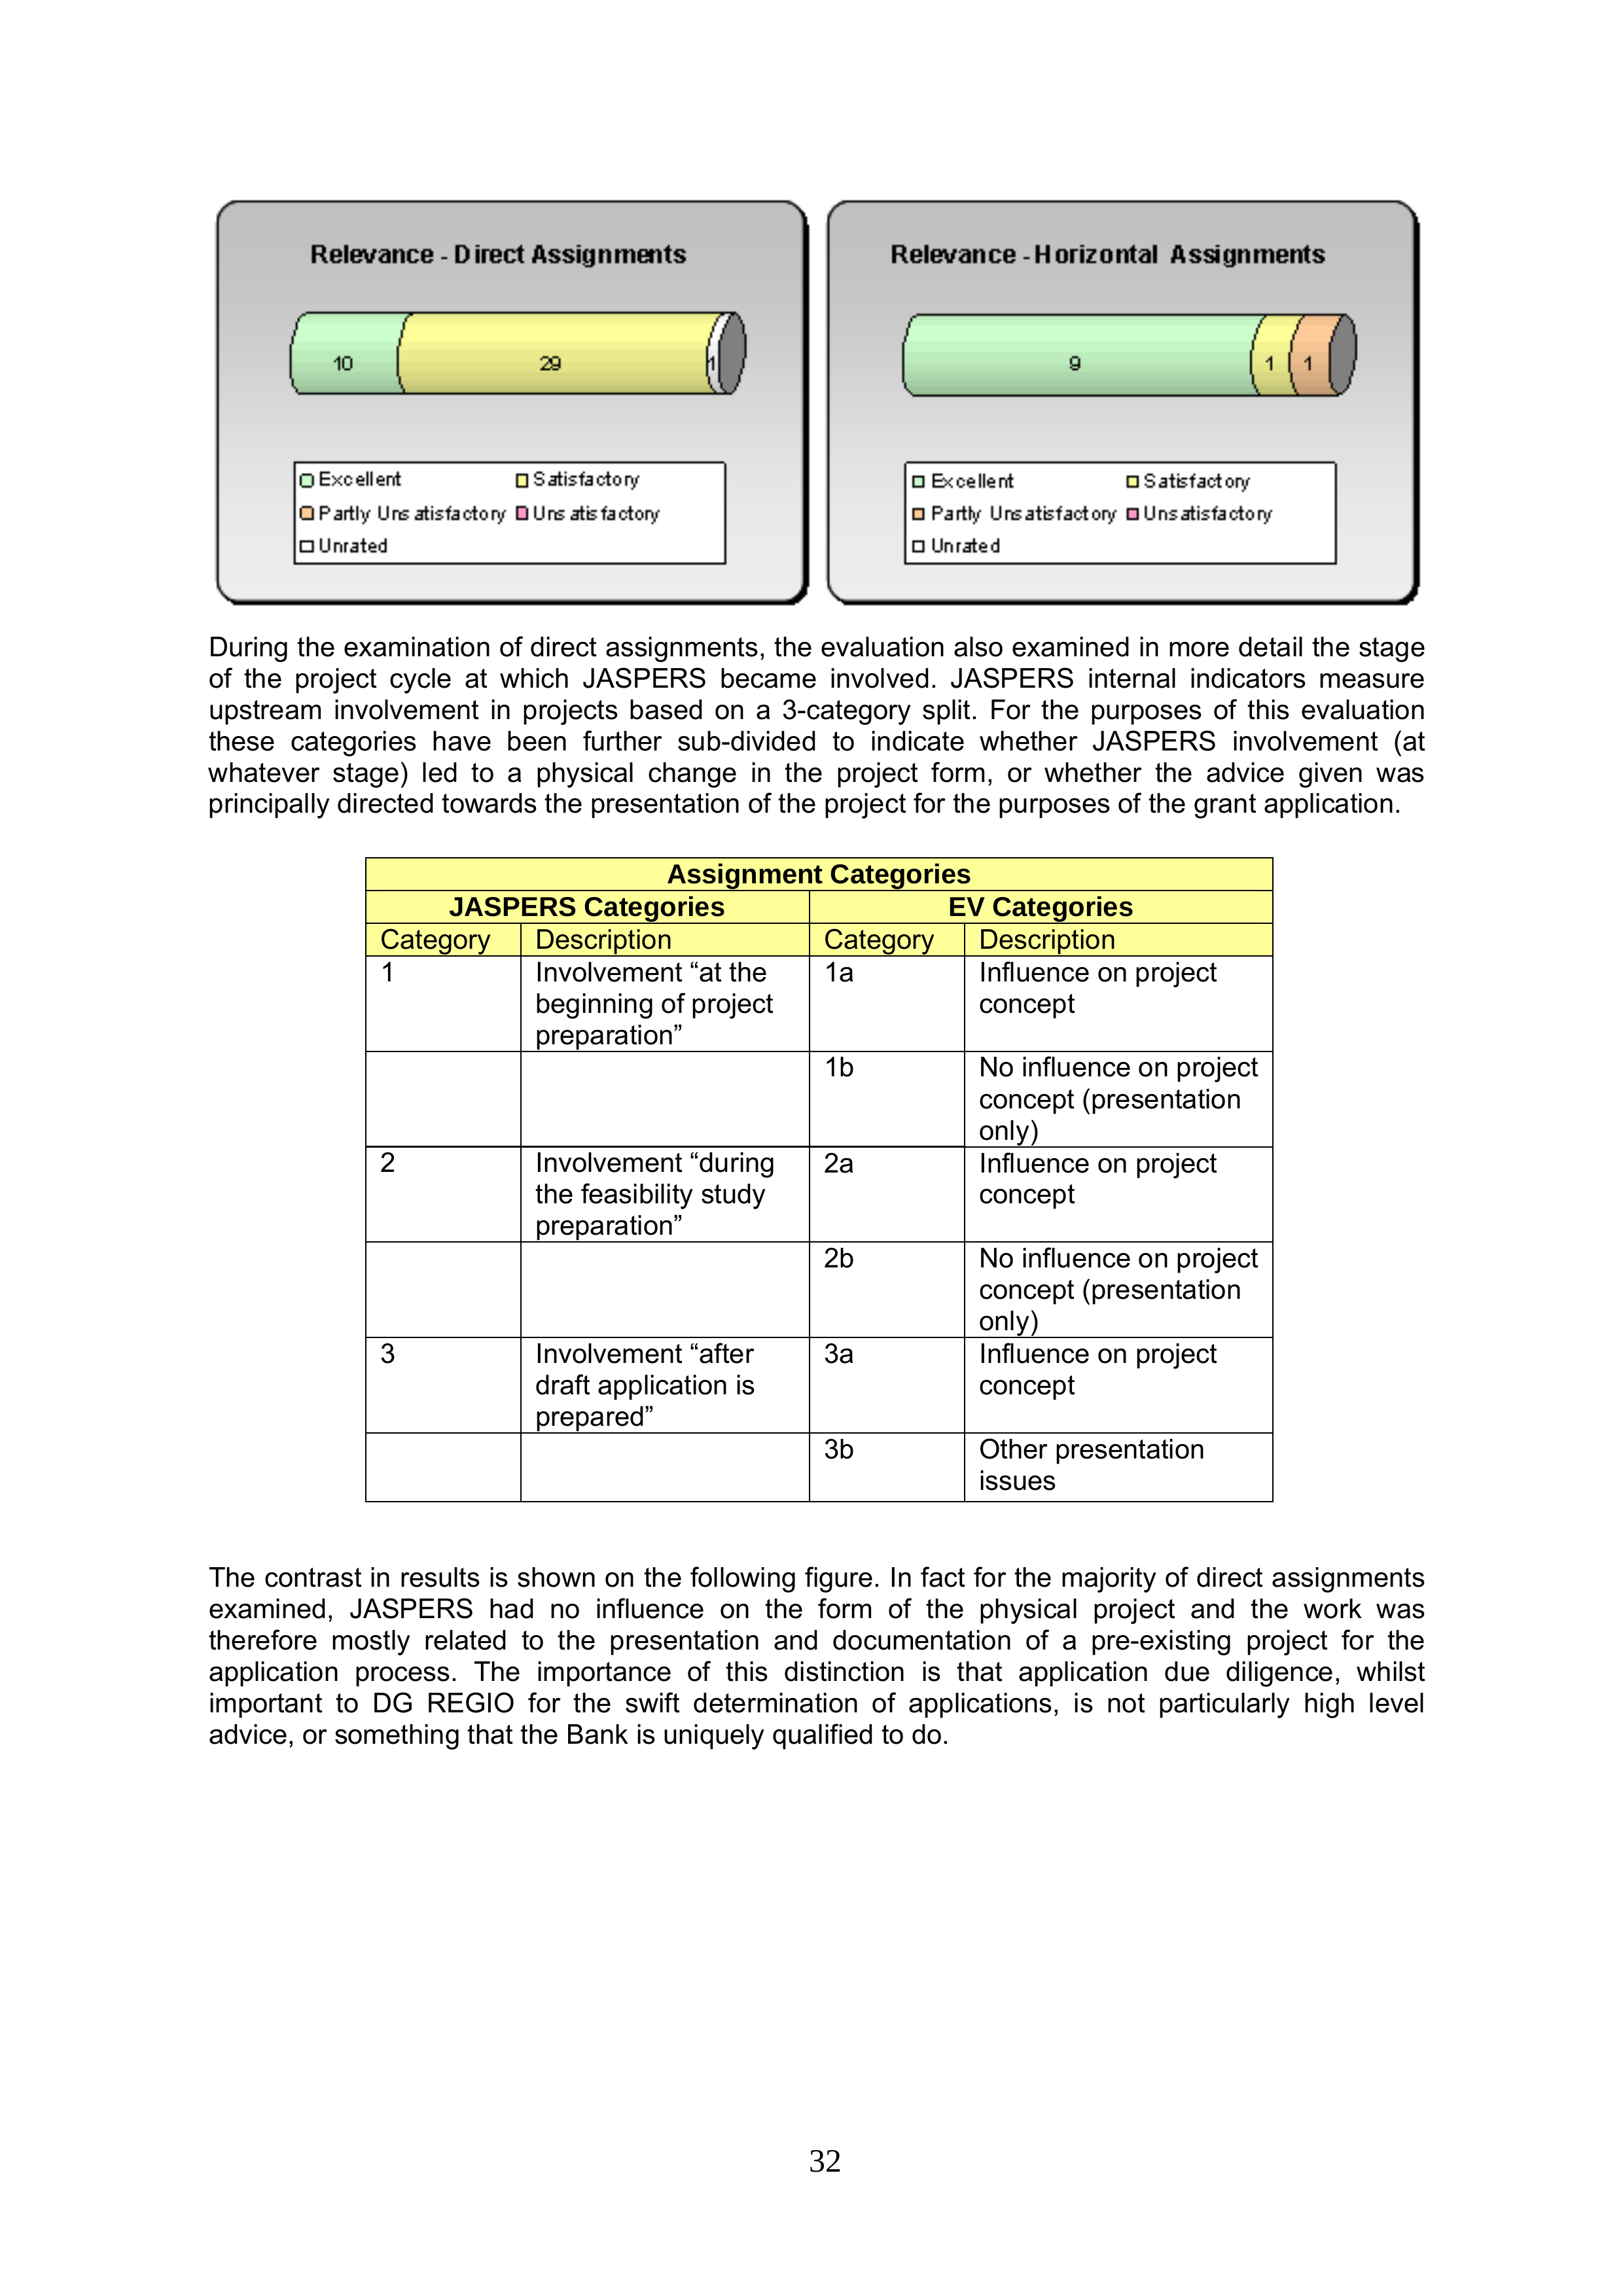table: (364, 855, 1277, 1504)
